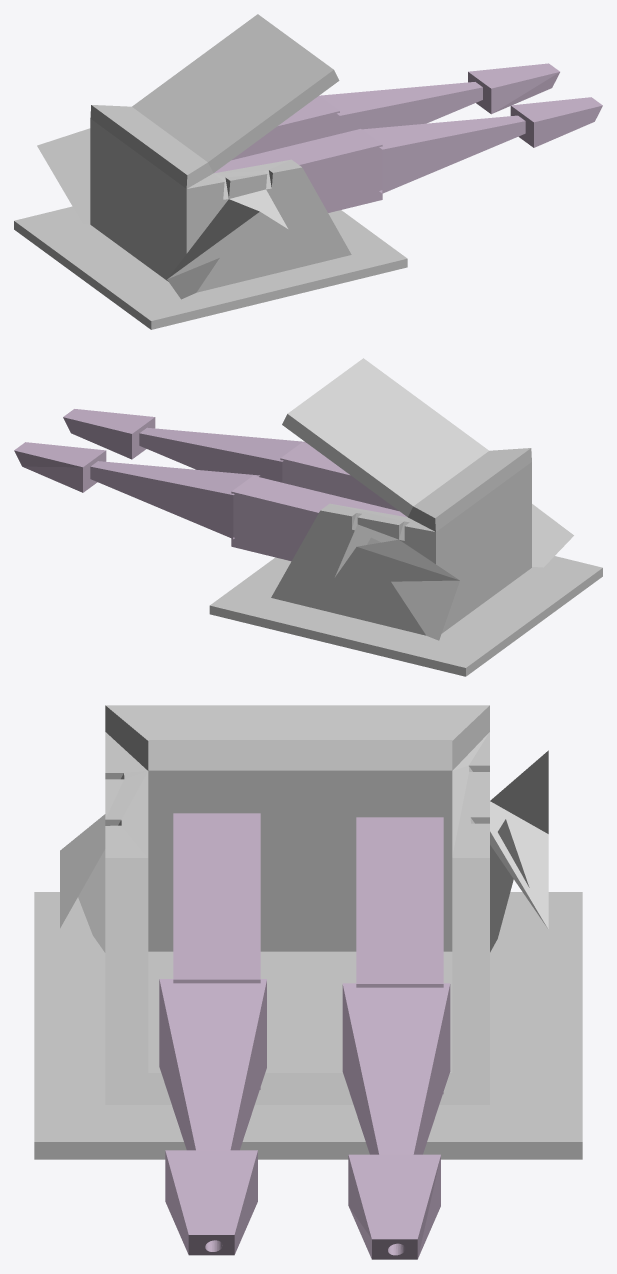
File: new_turret_2_centered.fbx
3 views of the same model, one above another, from view 1: azimuth 30°, elevation 25°; view 2: azimuth 150°, elevation 25°; view 3: azimuth 270°, elevation 25° (orthographic). The views are drawn at different scales.
Parts seen in each view (by area): view 1: body, arrow, plane; view 2: body, arrow, plane; view 3: body, arrow, plane.
Part boxes in pixels (bbox=[...]): body: bbox=[37, 14, 351, 299]; arrow: bbox=[214, 63, 602, 212]; plane: bbox=[14, 206, 407, 329]; body: bbox=[271, 358, 573, 640]; arrow: bbox=[14, 409, 407, 561]; plane: bbox=[209, 556, 602, 676]; body: bbox=[60, 705, 548, 1104]; arrow: bbox=[159, 813, 450, 1259]; plane: bbox=[34, 892, 582, 1159].
Bounding box in the file's own units: 2.81 × 1.04 × 1.36.
